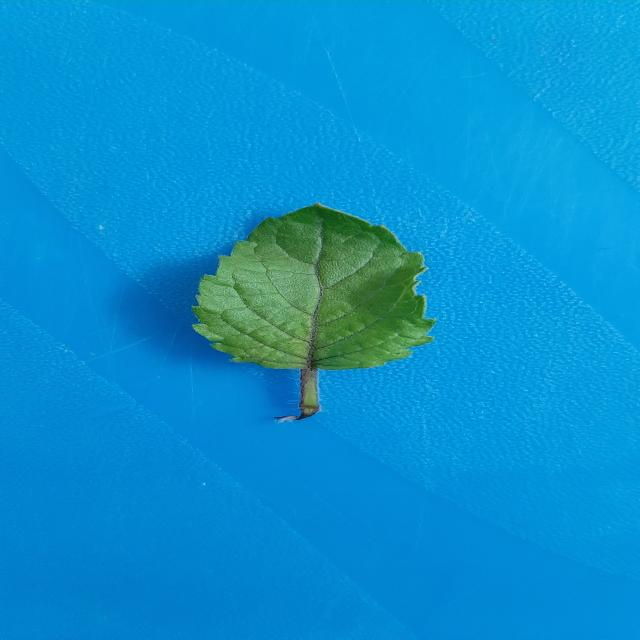tulsi: (192, 204, 434, 370)
